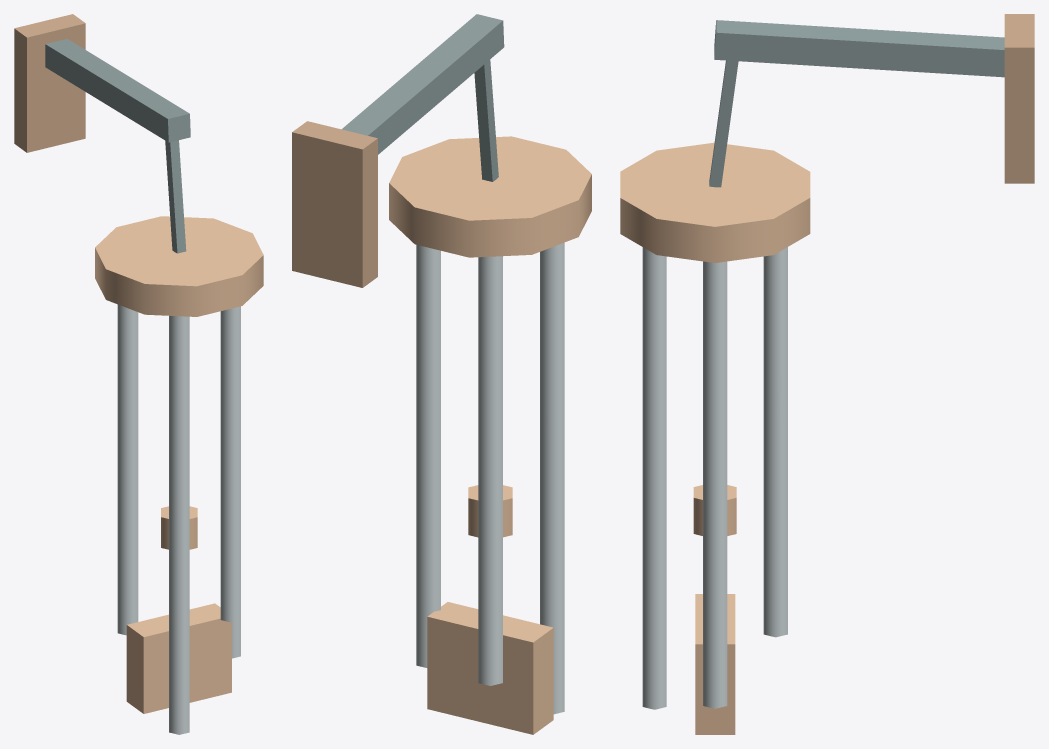
The model's file is windChime.glb.
The picture shows the model from 3 angles, left to right: view 1: azimuth 30°, elevation 25°; view 2: azimuth 150°, elevation 25°; view 3: azimuth 270°, elevation 25°; orthographic projection. The views are drawn at different scales.
Parts seen in each view (by area): view 1: windChime; view 2: windChime; view 3: windChime.
Part boxes in pixels (x1,y1,x2,y2): windChime: [14, 14, 263, 734]; windChime: [292, 14, 591, 734]; windChime: [620, 14, 1034, 734].
Size of the model in its own units: 0.1 by 0.3825 by 0.2076.
